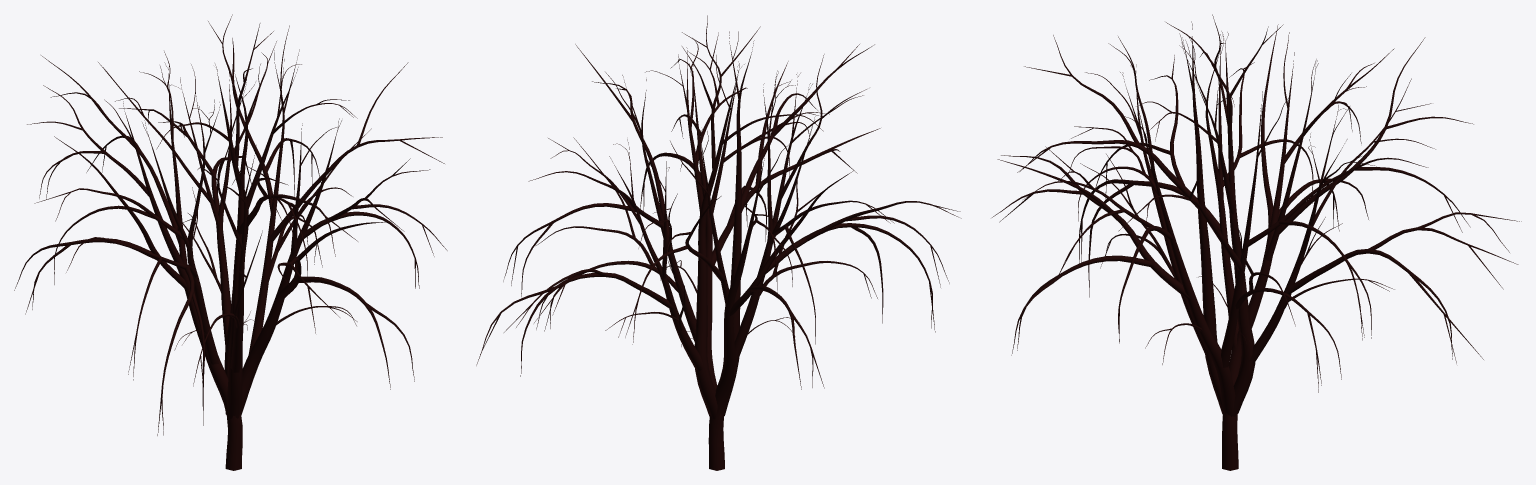
File: arvore_seca01.fbx
3 views of the same model, side by side, from view 1: azimuth 30°, elevation 25°; view 2: azimuth 150°, elevation 25°; view 3: azimuth 270°, elevation 25° (orthographic). The views are drawn at different scales.
Visible parts, largest first — view 1: tree; view 2: tree; view 3: tree.
Boxes of the visible parts, x1=… form: tree: x1=14, y1=14, x2=447, y2=470; tree: x1=476, y1=15, x2=961, y2=470; tree: x1=992, y1=14, x2=1521, y2=470.
Size of the model in its own units: 623 by 687 by 716.
